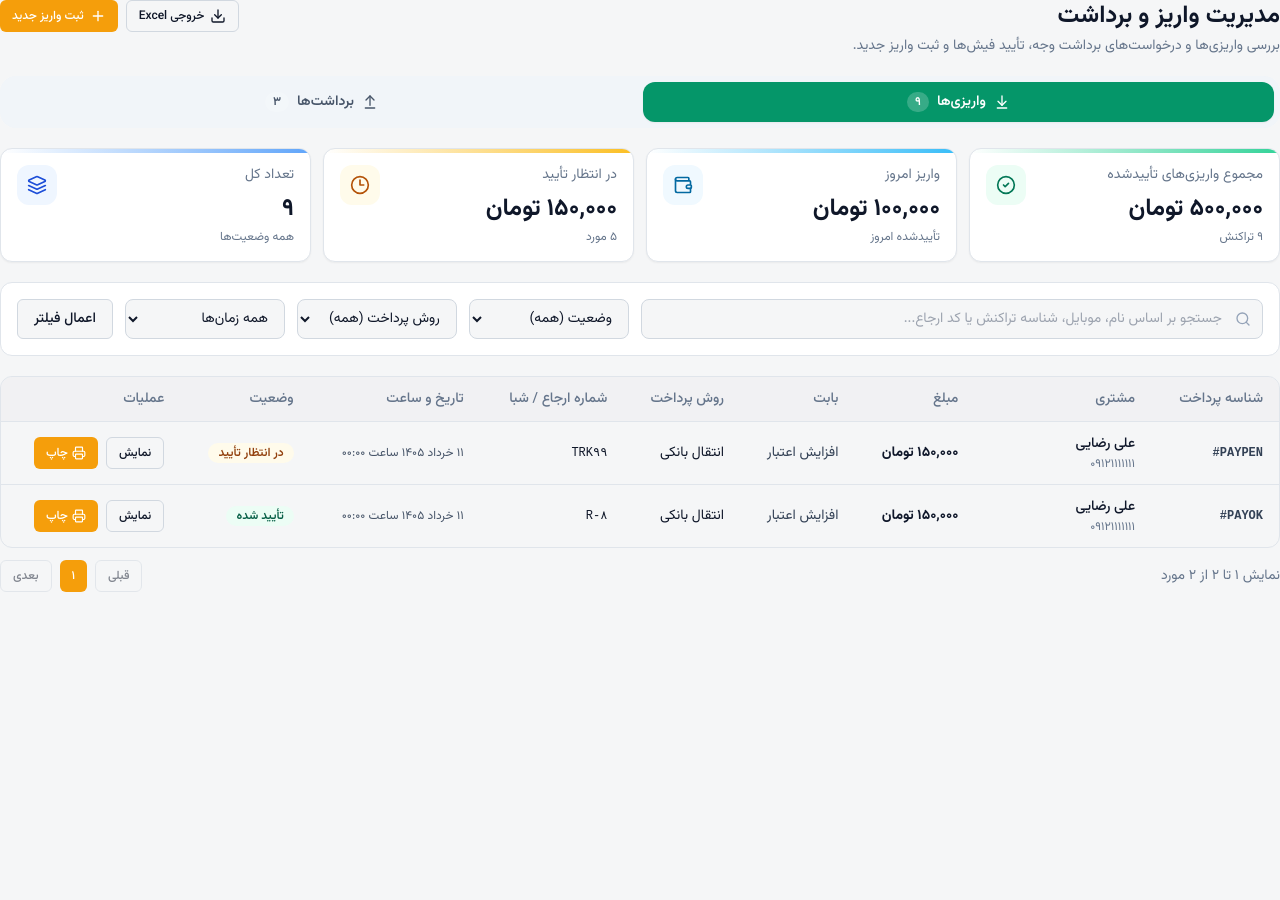
PaymentsManagementPage › asks for a customer before submitting wallet deposit
Click the button "ثبت واریز جدید" at (59, 16), box [0,0,118,32]
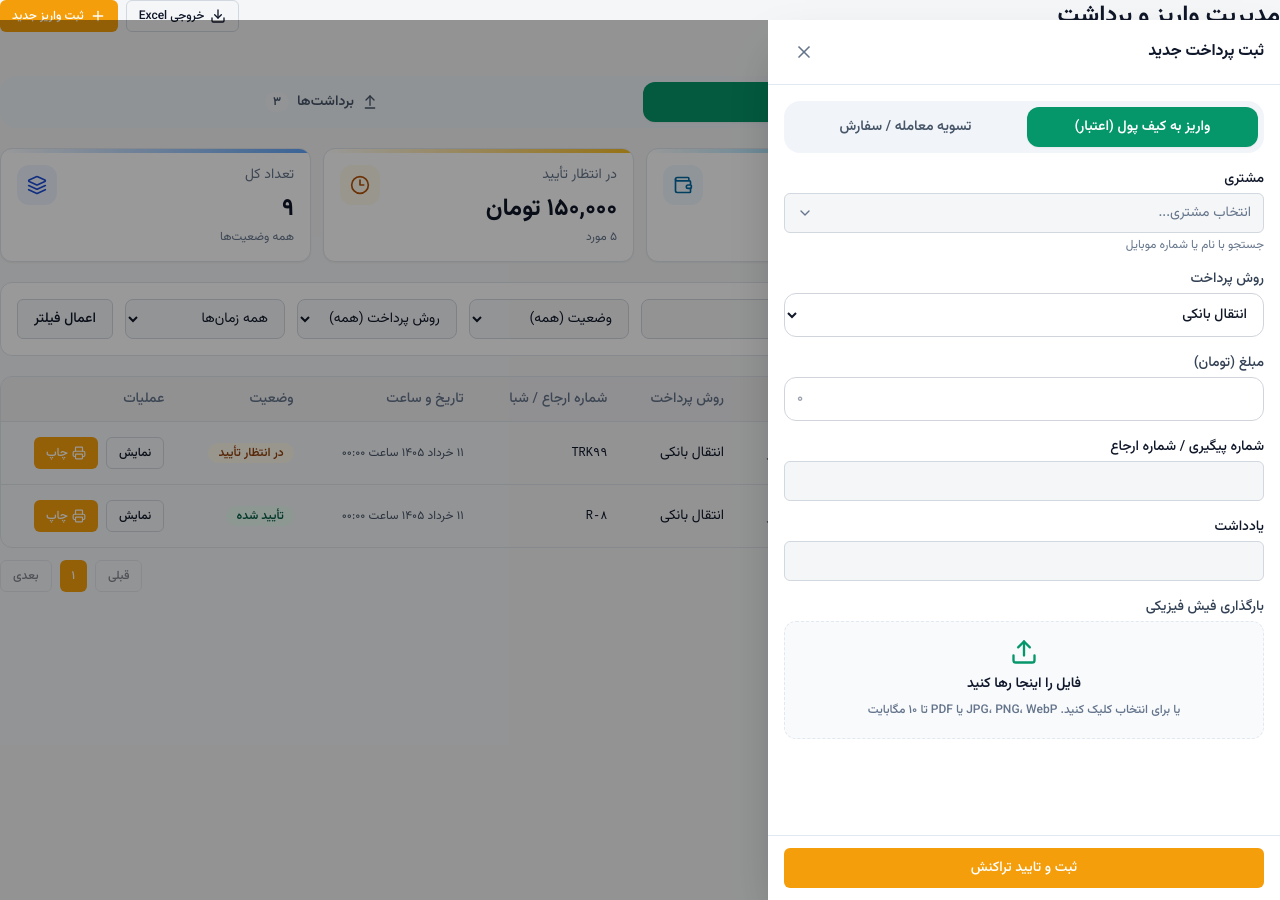
Type "1000" into the field labelled "مبلغ (تومان)" at (1024, 399), box [784,377,1264,421]
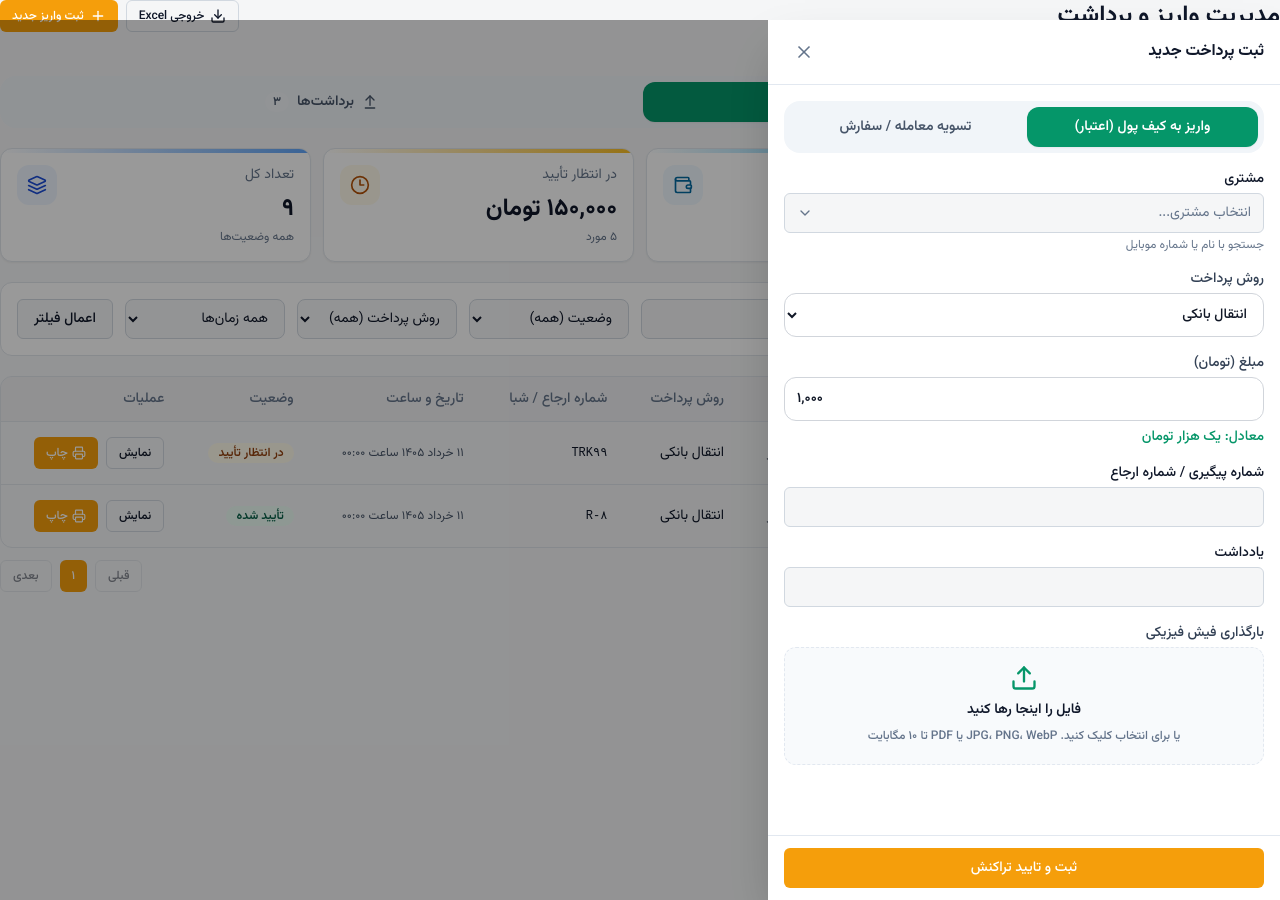
Click the button "ثبت و تایید تراکنش" at (1024, 868), box [784,848,1264,888]
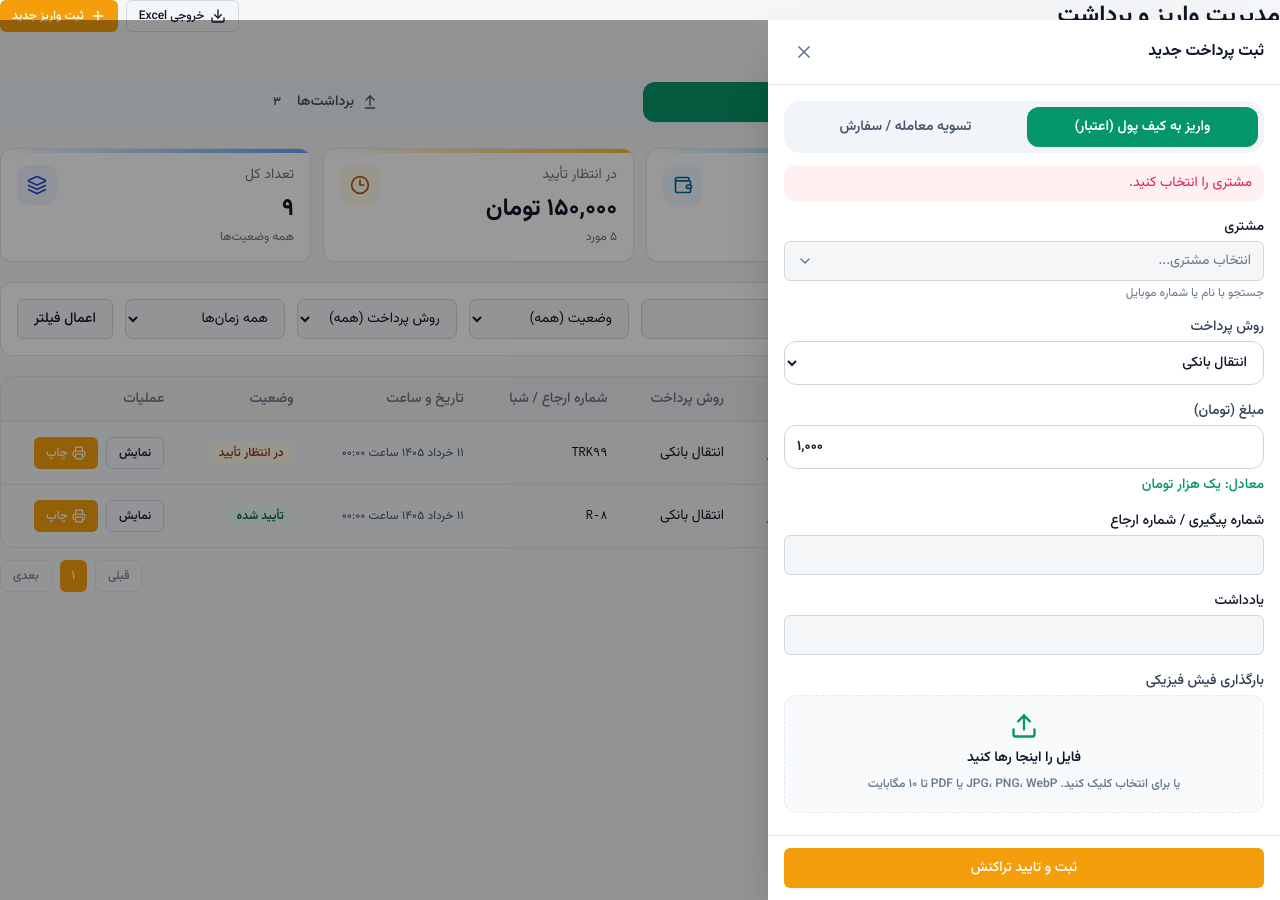
Result: the text "مشتری را انتخاب کنید." is shown at [784,165,1264,201]
